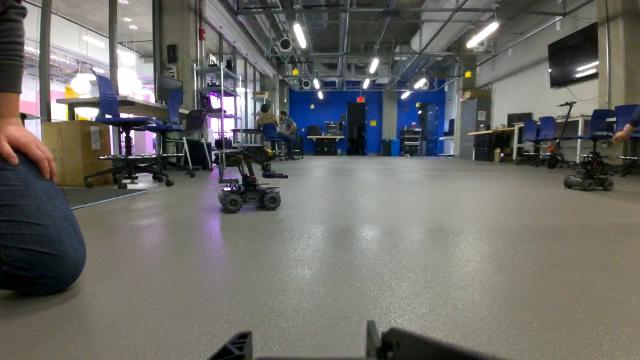robot: (215, 147, 292, 219)
